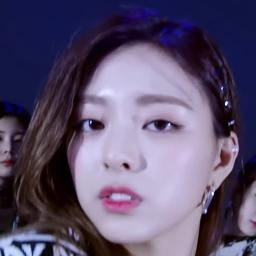face: (87, 56, 199, 236)
